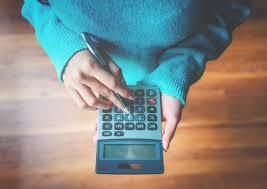Calculator: (89, 74, 173, 181)
